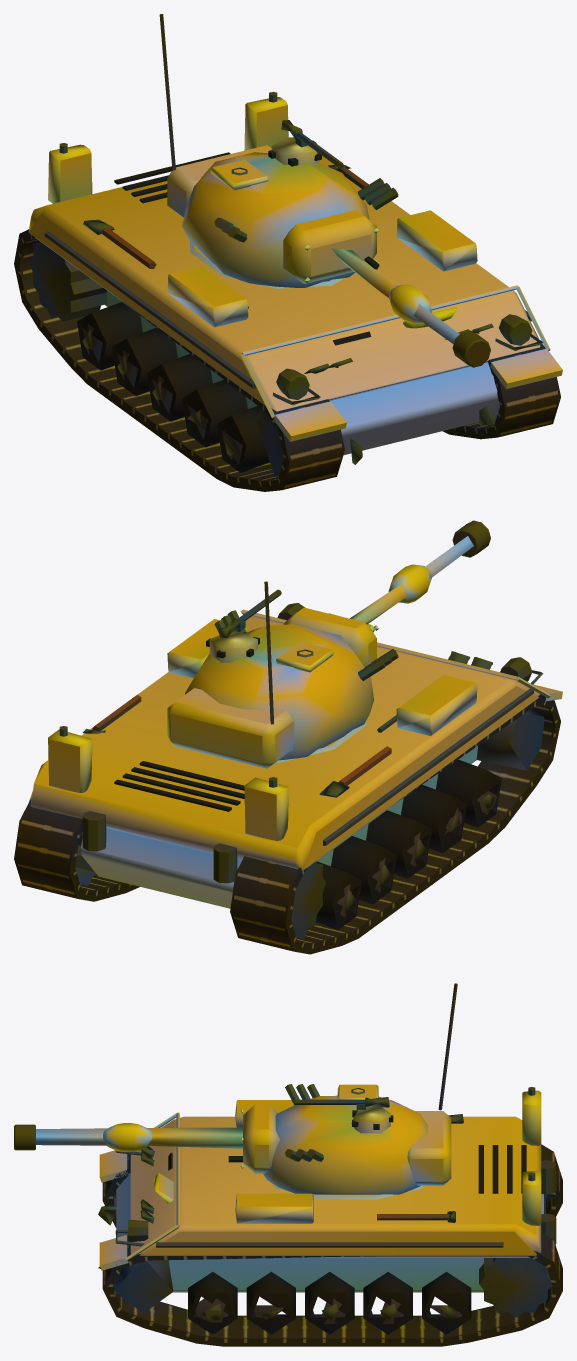
File: tank_lo.glb
The picture shows the model from 3 angles, top to bottom: view 1: azimuth 30°, elevation 25°; view 2: azimuth 150°, elevation 25°; view 3: azimuth 270°, elevation 25°; orthographic projection. The views are drawn at different scales.
Parts seen in each view (by area): view 1: hull, turret, tracks, barrel; view 2: hull, turret, tracks, barrel; view 3: hull, turret, tracks, barrel.
Part boxes in pixels (x1,y1,x2,y2): hull: [28, 91, 562, 476]; turret: [159, 14, 398, 288]; tracks: [14, 229, 560, 491]; barrel: [332, 248, 490, 367]; hull: [29, 603, 562, 938]; turret: [167, 581, 398, 768]; tracks: [14, 694, 560, 954]; barrel: [350, 520, 490, 624]; hull: [98, 1087, 556, 1334]; turret: [228, 983, 457, 1199]; tracks: [102, 1144, 562, 1346]; barrel: [14, 1123, 242, 1151].
Bounding box in the file's own units: 0.1723 × 0.2001 × 0.3477.
5 materials, 1 textured.
